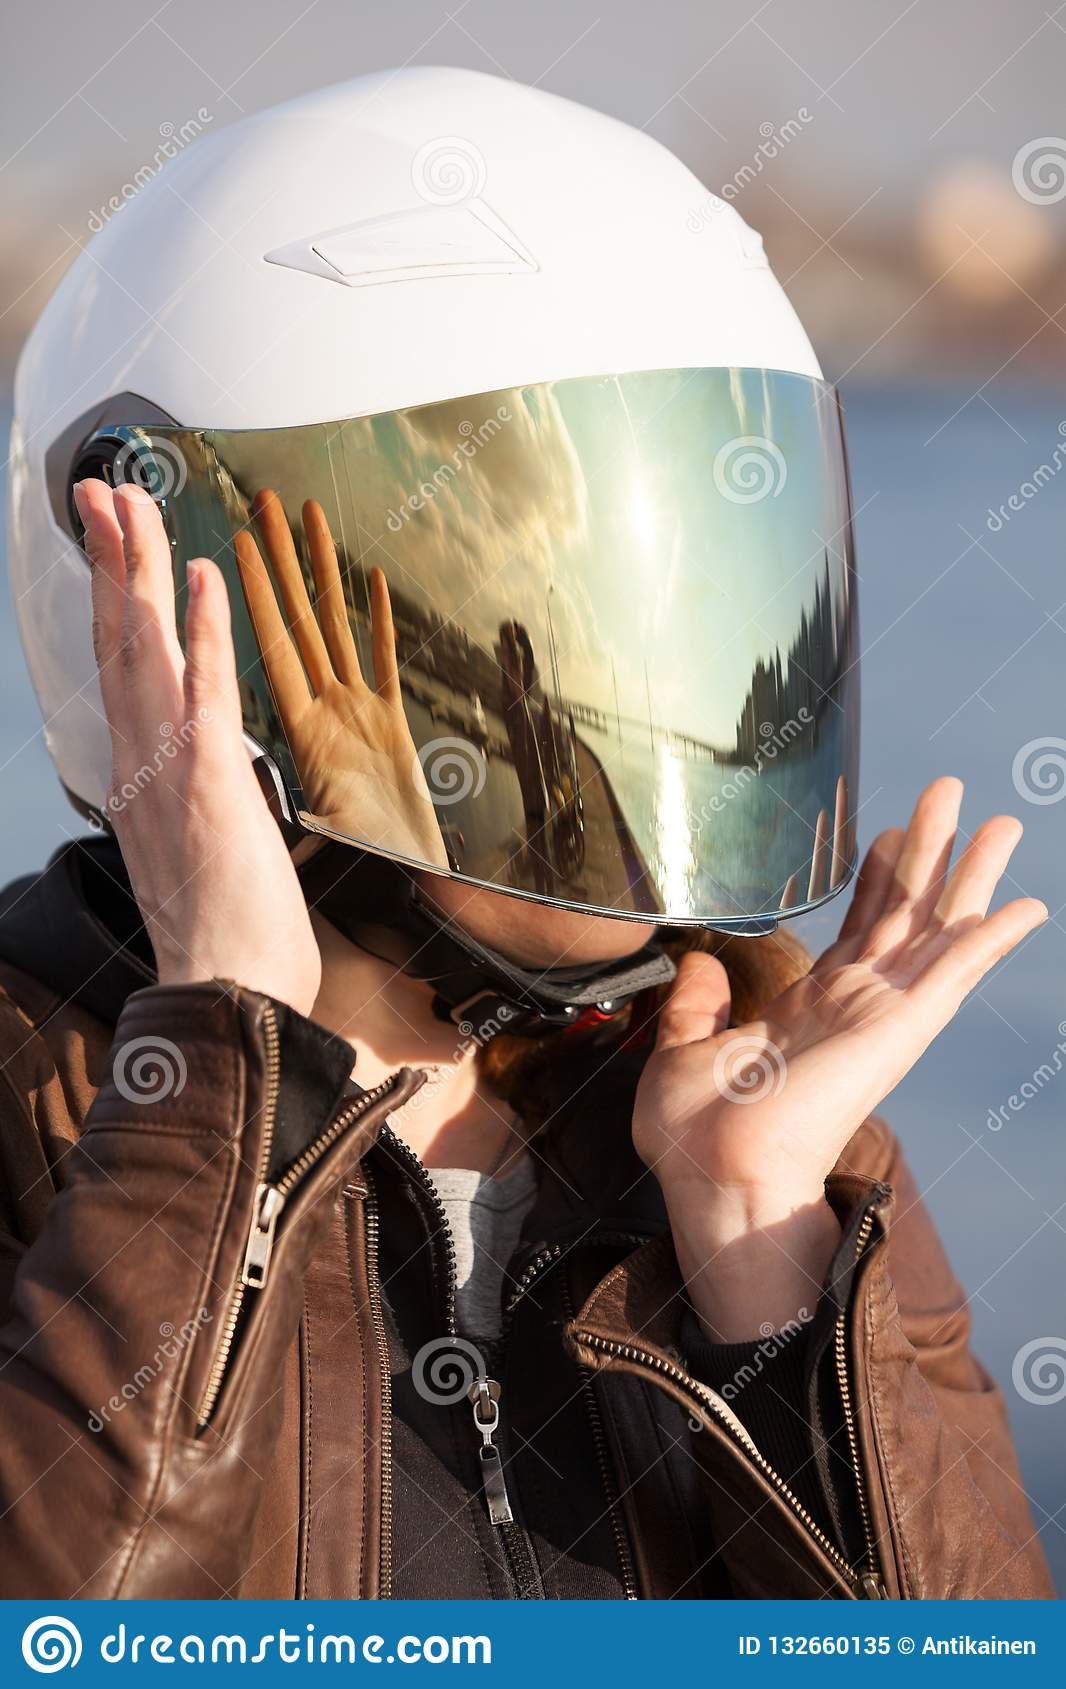helmet: (22, 114, 904, 983)
